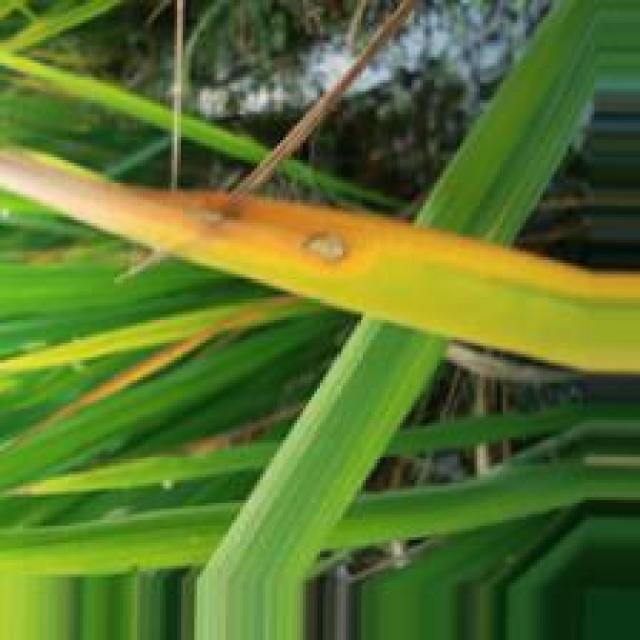Leaf_Blast: (184, 195, 252, 236), (297, 228, 357, 272)
